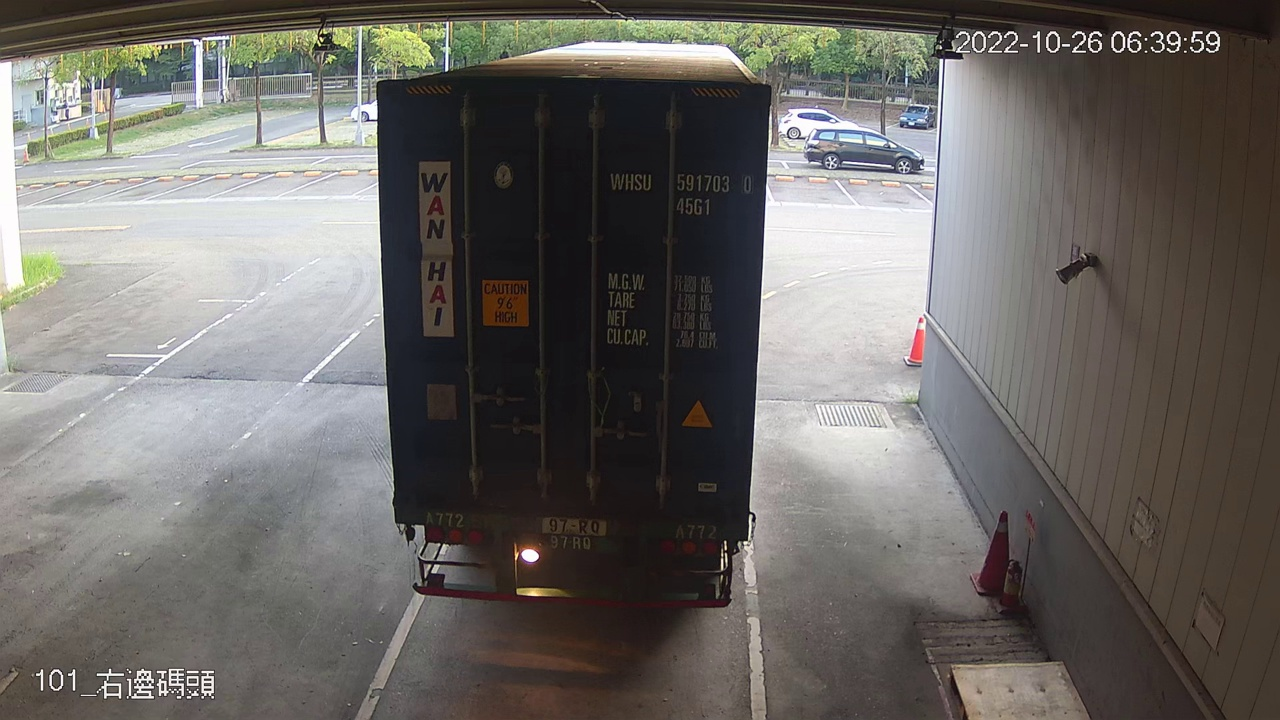container: (605, 164, 756, 220)
